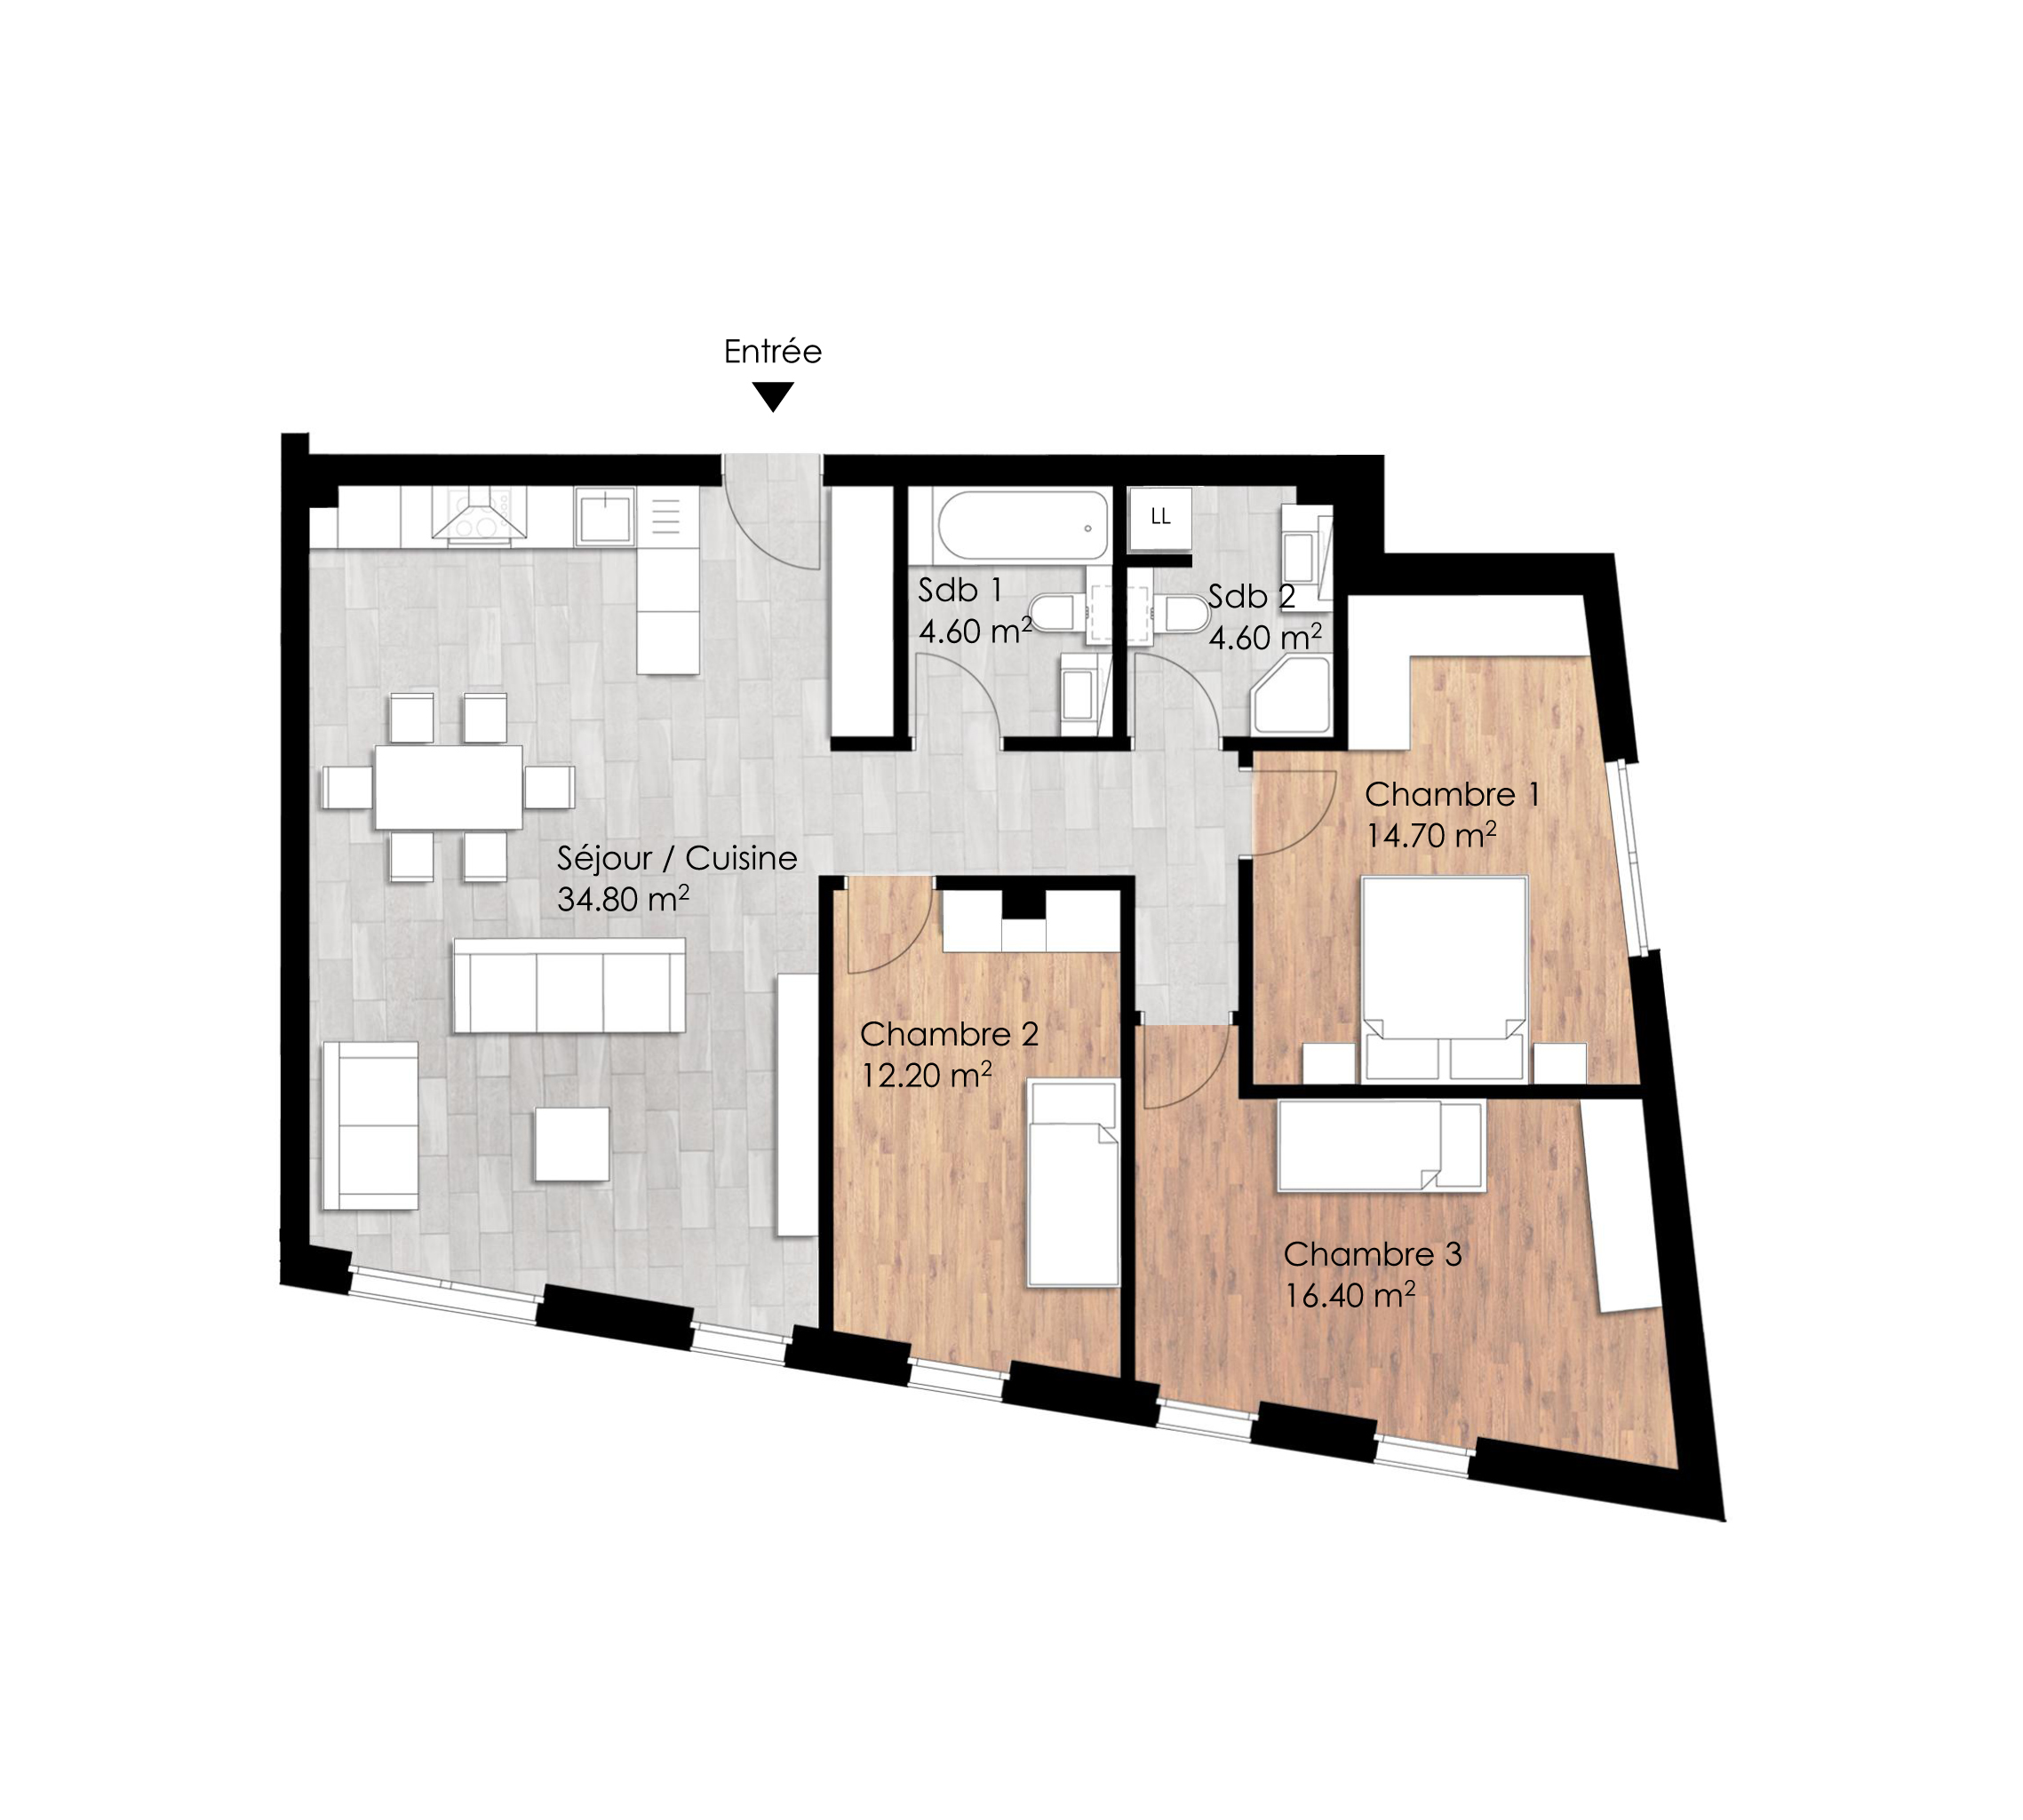door: (714, 494, 824, 589), (1135, 1033, 1230, 1128), (1271, 757, 1348, 857), (840, 905, 939, 982), (1132, 645, 1216, 733), (916, 645, 1007, 722)
wall: (283, 434, 313, 1275), (821, 450, 1383, 487)
